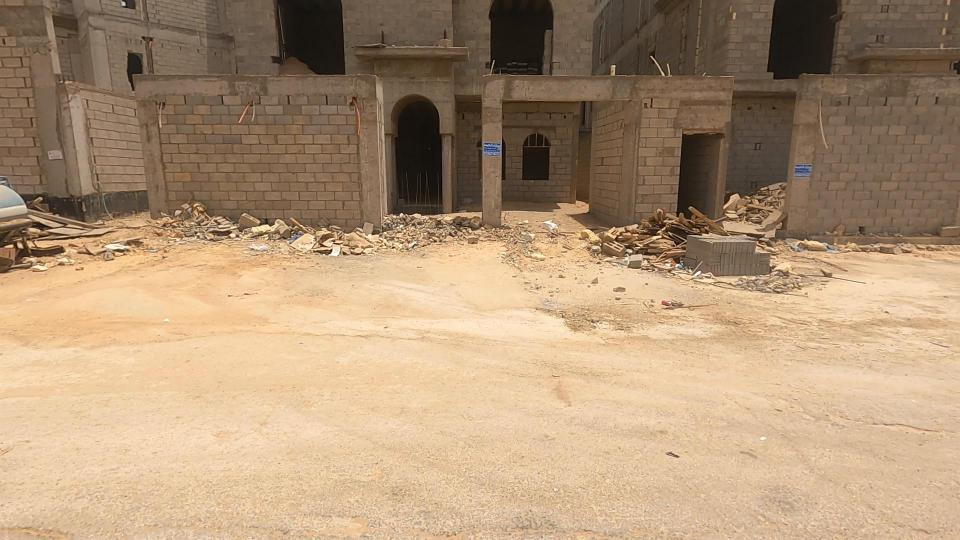GARBAGE: (509, 172, 763, 311), (91, 177, 338, 275), (243, 165, 425, 295), (665, 153, 840, 283), (3, 202, 198, 292)
